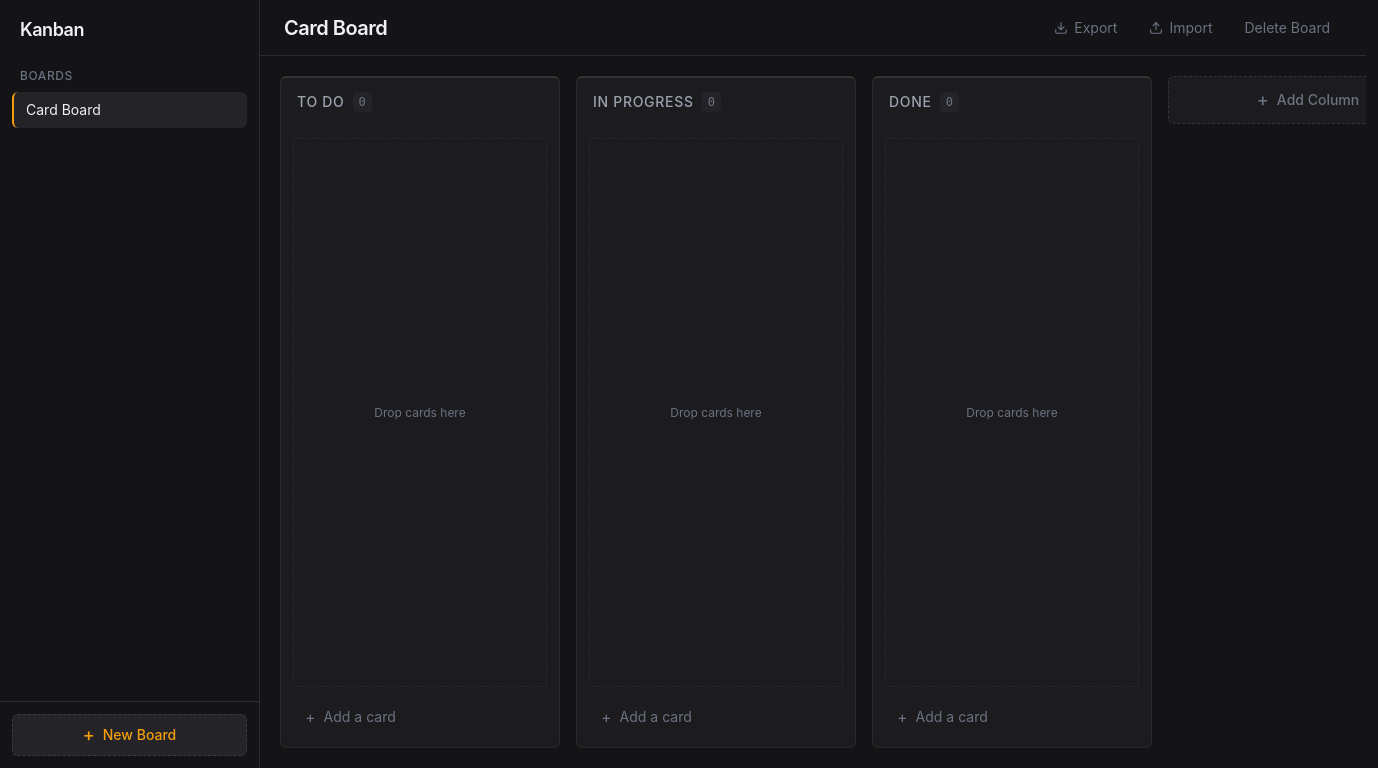
Scenario: Board lifecycle integration › creates card via inline input in column
Click the 1st button "+ Add a card" at (420, 717), box [293, 699, 547, 735]
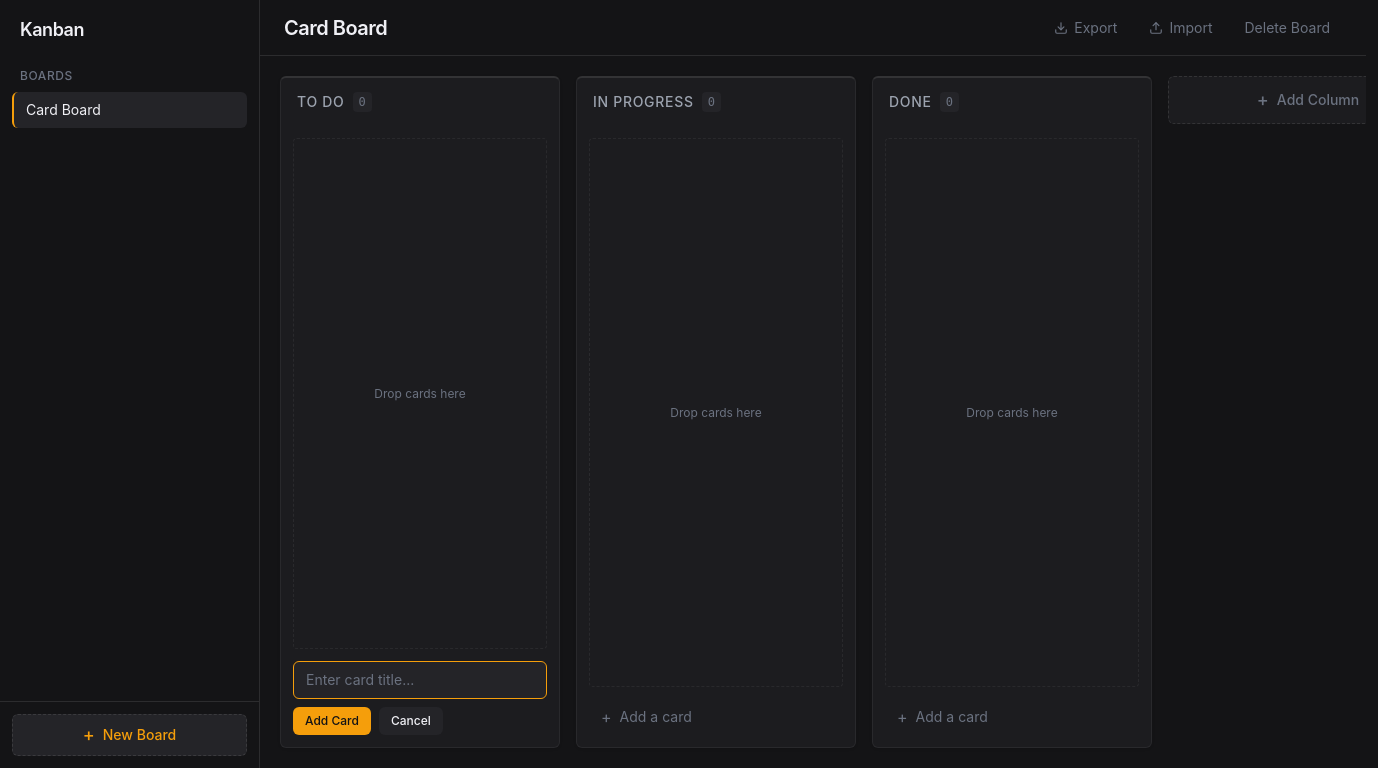
Type "New Task" into the field with placeholder "Enter card title..." at (420, 680), box [293, 661, 547, 699]
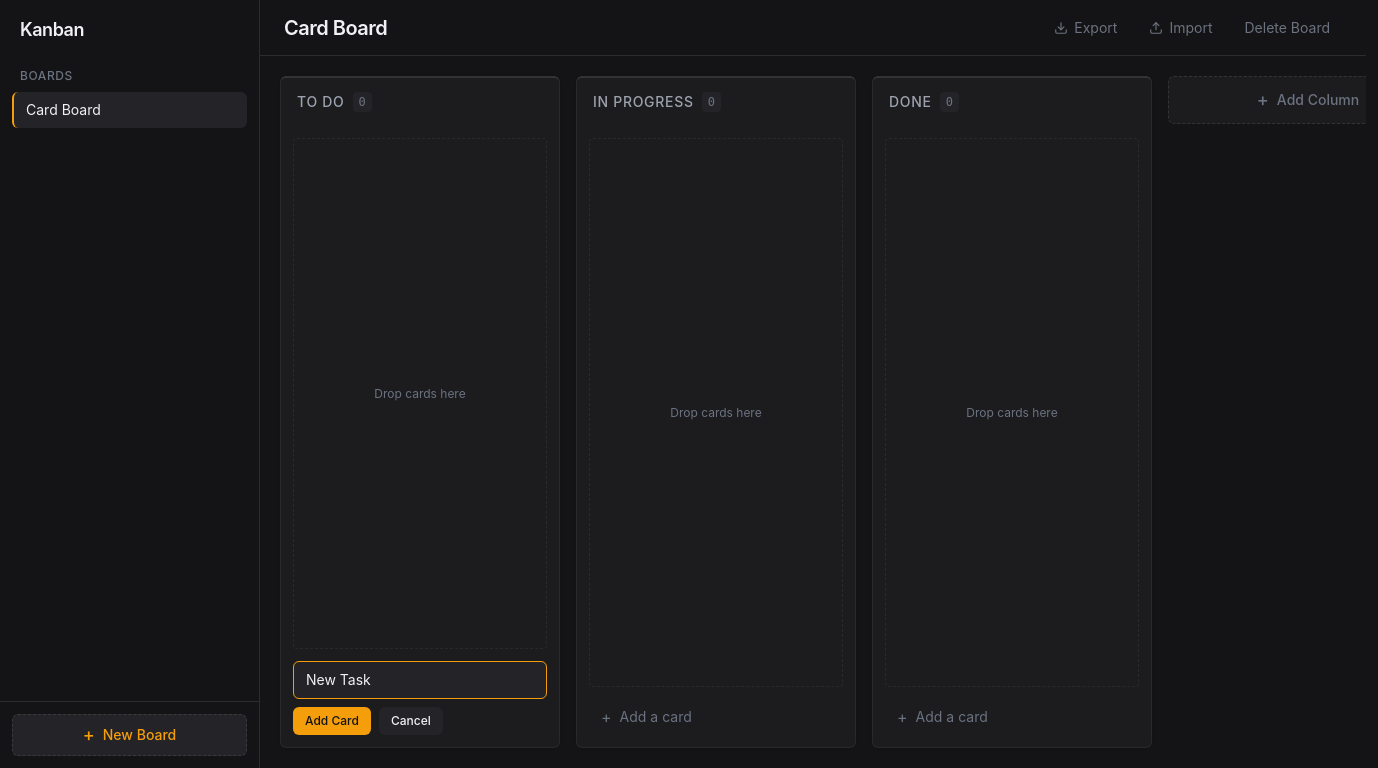
Click the button "Add Card" at (332, 721), box [293, 707, 371, 735]
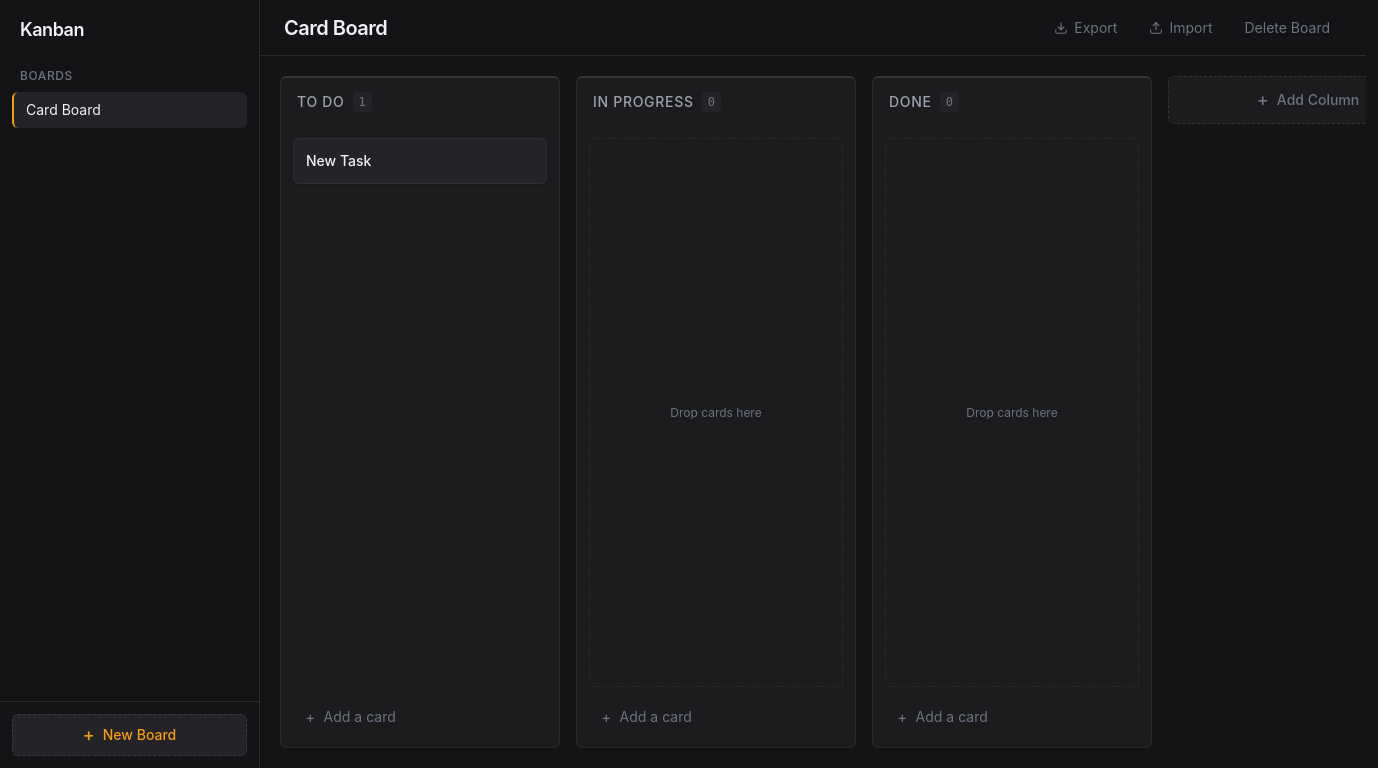
Result: the button "New Task" is shown at [306, 151, 371, 171]
